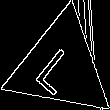L_NE: (34, 37, 87, 96)
